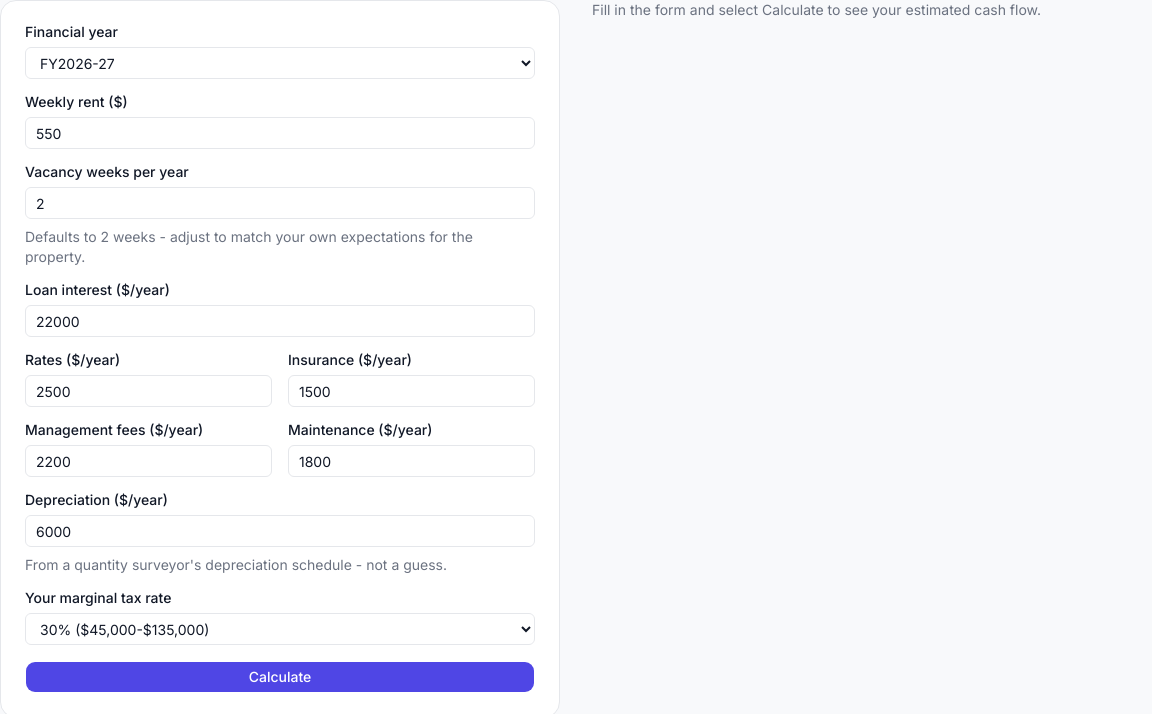
Scenario: PropertyCashFlowCalculator › integration: wires the form through the engine to a rendered breakdown, negatively geared, defaulting to FY2026-27
Click the button "Calculate" at (280, 677), box 25,661 -> 535,693
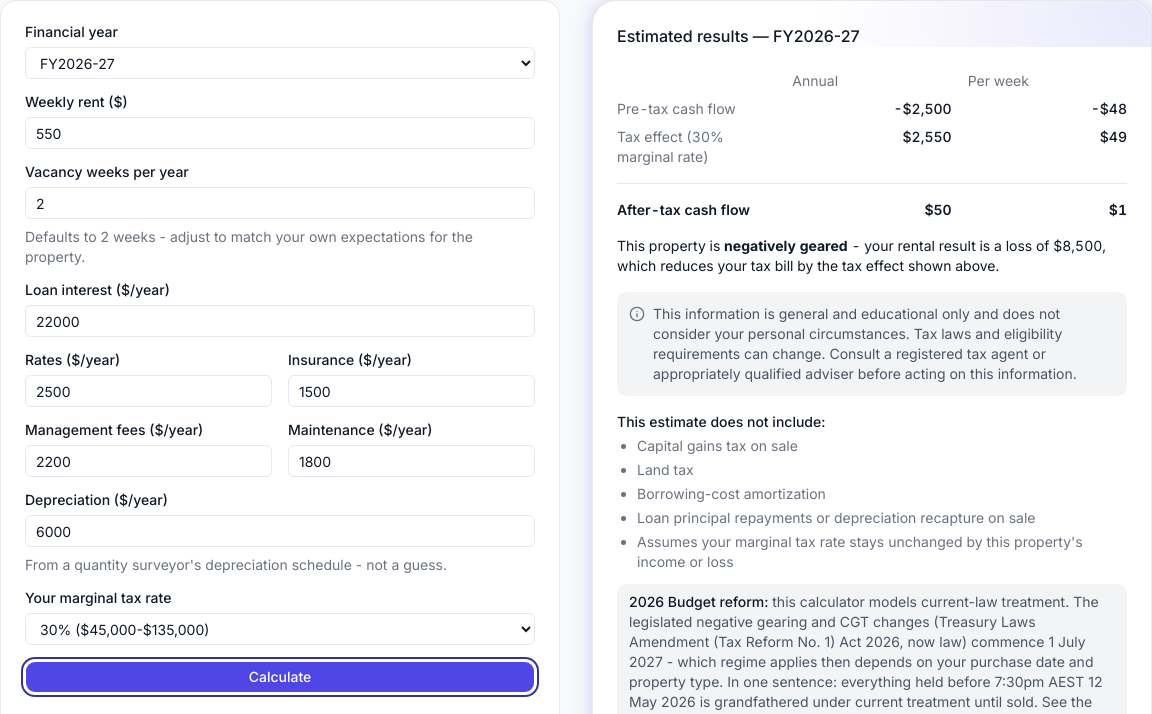
Now the text "-$2,500" is shown, box 894,100 -> 952,117
Now the text "$2,550" is shown, box 903,128 -> 952,145
Now the text "$50" is shown, box 924,201 -> 952,218
